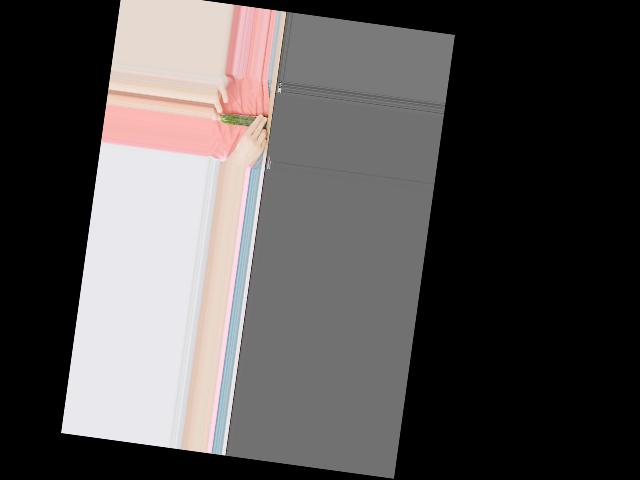cucumber: (220, 112, 256, 128)
